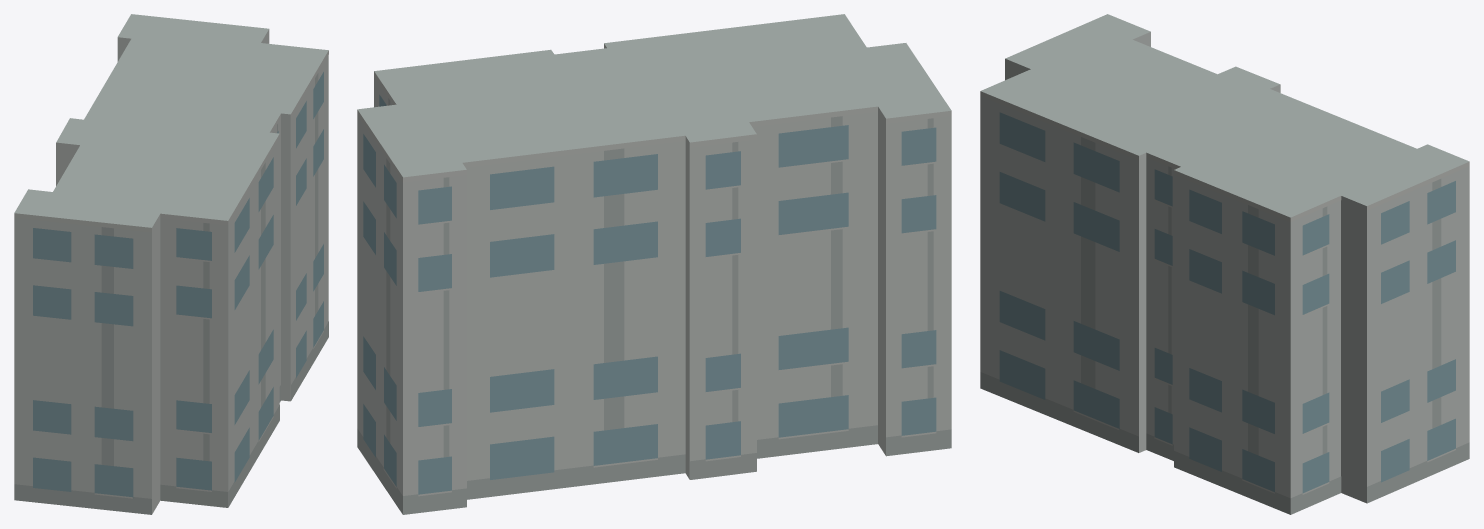
The model's file is survey-upis-32682239.glb.
3 renders of one model, left to right at view 1: azimuth 30°, elevation 25°; view 2: azimuth 150°, elevation 25°; view 3: azimuth 270°, elevation 25°, orthographic. The views are drawn at different scales.
Parts seen in each view (by area): view 1: survey-upis-32682239.tmp; view 2: survey-upis-32682239.tmp; view 3: survey-upis-32682239.tmp.
Part boxes in pixels (x1,y1,x2,y2): survey-upis-32682239.tmp: (14, 14, 328, 514); survey-upis-32682239.tmp: (357, 14, 951, 514); survey-upis-32682239.tmp: (980, 14, 1469, 514).
Bounding box in the file's own units: 22.78 × 15.5 × 23.13.
